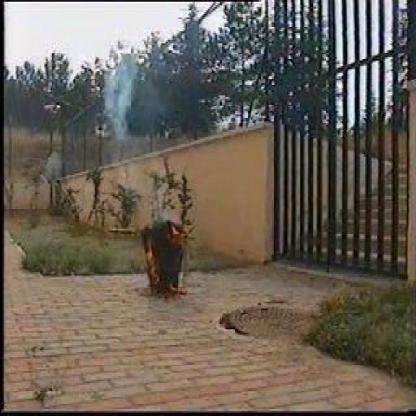-: (104, 53, 138, 127)
